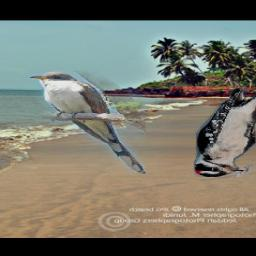Cuckoo: (28, 71, 145, 174)
Woodpecker: (193, 87, 256, 177)
